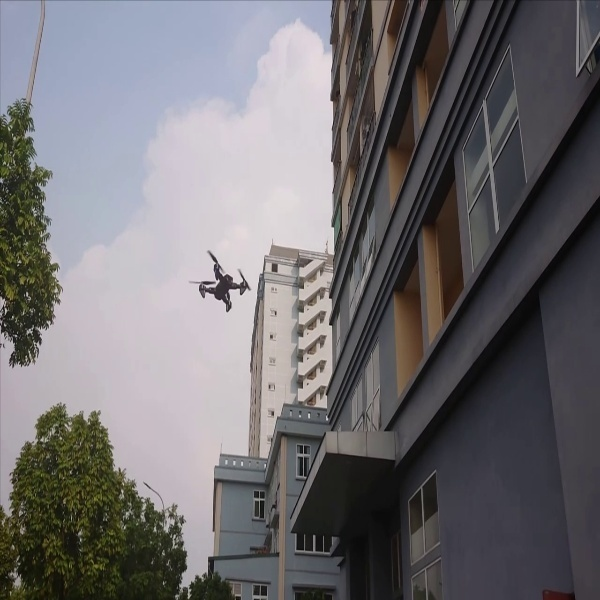drone: (187, 239, 255, 322)
